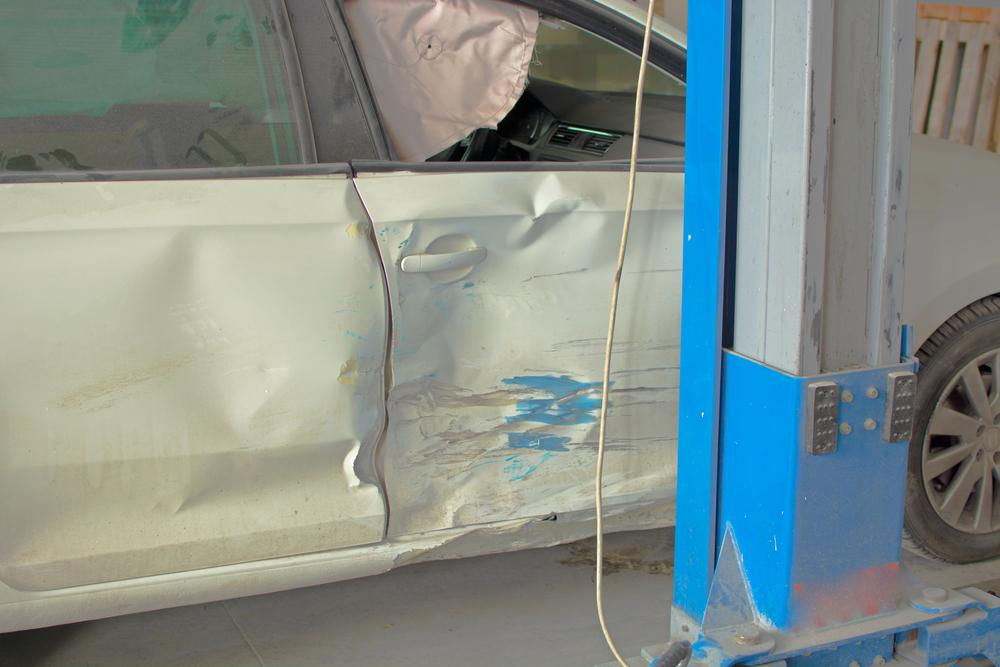dent: (373, 174, 600, 530), (120, 230, 313, 440), (342, 187, 392, 497)
scratch: (603, 337, 682, 459)
